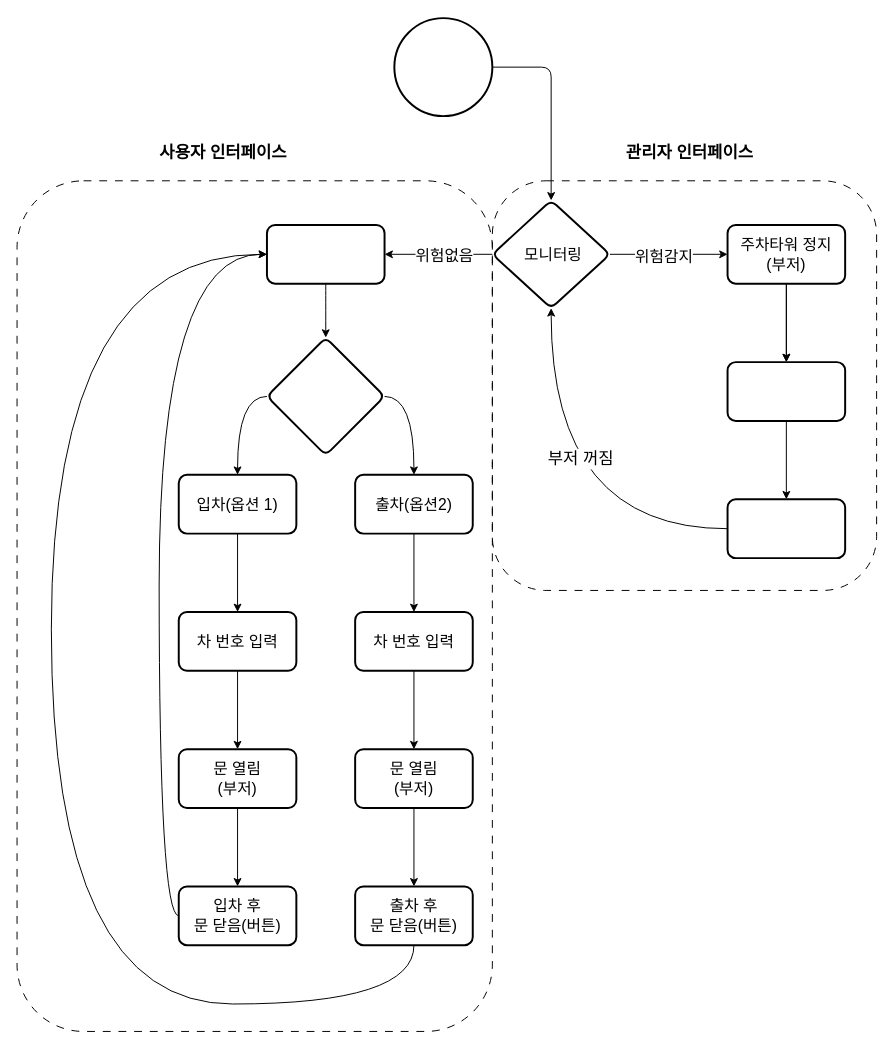
This 895x1049 diagram has some shape labels left out. The centre of each missing label's shape, as x and y in pixels:
"문 닫음" goes at [786,528].
"문 열림" goes at [786,391].
"시작" goes at [443,67].
"입차, 출차 선택" goes at [325,396].
"현재 주차 수 , 주차 가능한 수 계산" goes at [325,253].
